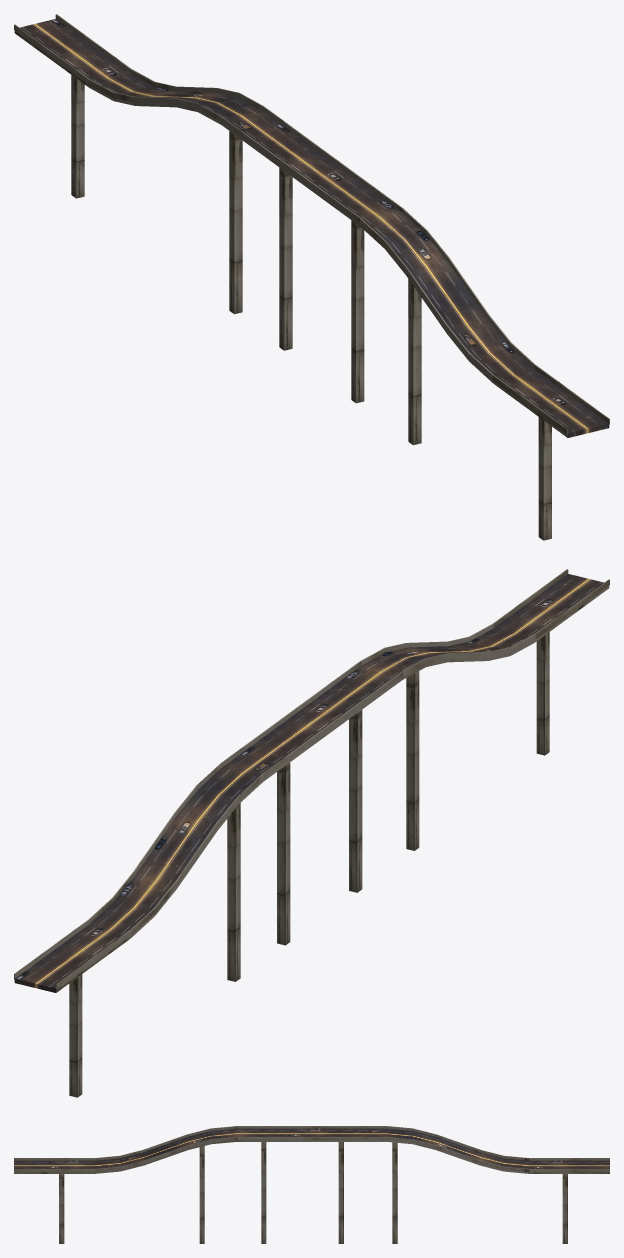
The model's file is CP_Background_Road_400m_01.fbx.
3 views of the same model, one above another, from view 1: azimuth 30°, elevation 25°; view 2: azimuth 150°, elevation 25°; view 3: azimuth 270°, elevation 25° (orthographic). The views are drawn at different scales.
Parts seen in each view (by area): view 1: CP_Background_Road_400m_01; view 2: CP_Background_Road_400m_01; view 3: CP_Background_Road_400m_01.
Boxes of the visible parts, <box> form: CP_Background_Road_400m_01: <box>14,14,609,540</box>; CP_Background_Road_400m_01: <box>14,569,609,1097</box>; CP_Background_Road_400m_01: <box>14,1126,609,1243</box>.
Size of the model in its own units: 1792 by 8211 by 40000.
